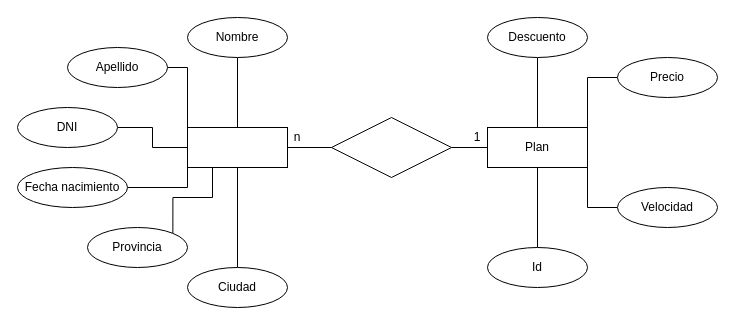
The diagram is 735 pixels wide and 325 high, and some of its shapes have lost their labels. Each missing label, with the box of its shape:
Cliente: (186, 126, 288, 168)
Tiene: (330, 116, 452, 178)
